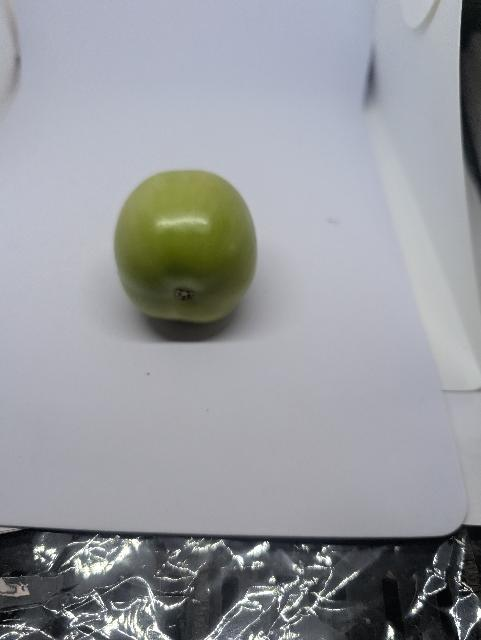green: (111, 166, 262, 324)
